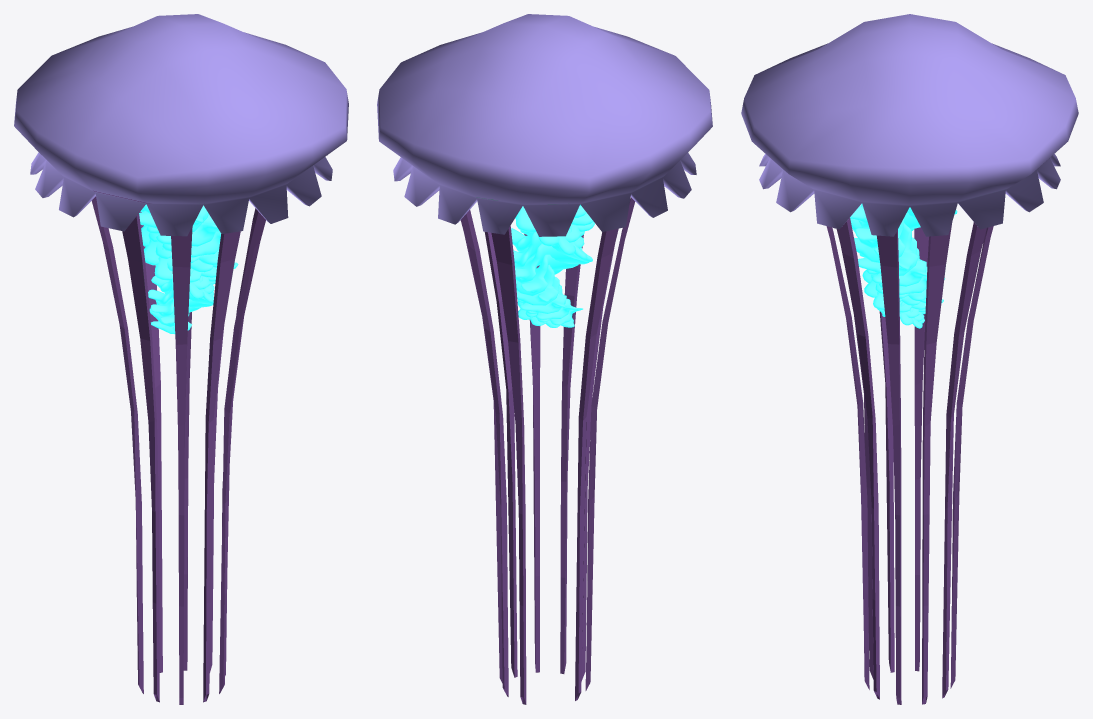
The model's file is Jellyfish.fbx.
3 renders of one model, left to right at view 1: azimuth 30°, elevation 25°; view 2: azimuth 150°, elevation 25°; view 3: azimuth 270°, elevation 25°, orthographic.
Parts seen in each view (by area): view 1: Jelly.005; view 2: Jelly.005; view 3: Jelly.005.
Boxes of the visible parts, x1,y1,x2,y2 form: Jelly.005: [14, 14, 348, 704]; Jelly.005: [377, 14, 712, 704]; Jelly.005: [741, 14, 1078, 704].
Bounding box in the file's own units: 783 × 1693 × 783.
2 materials, 1 textured.
